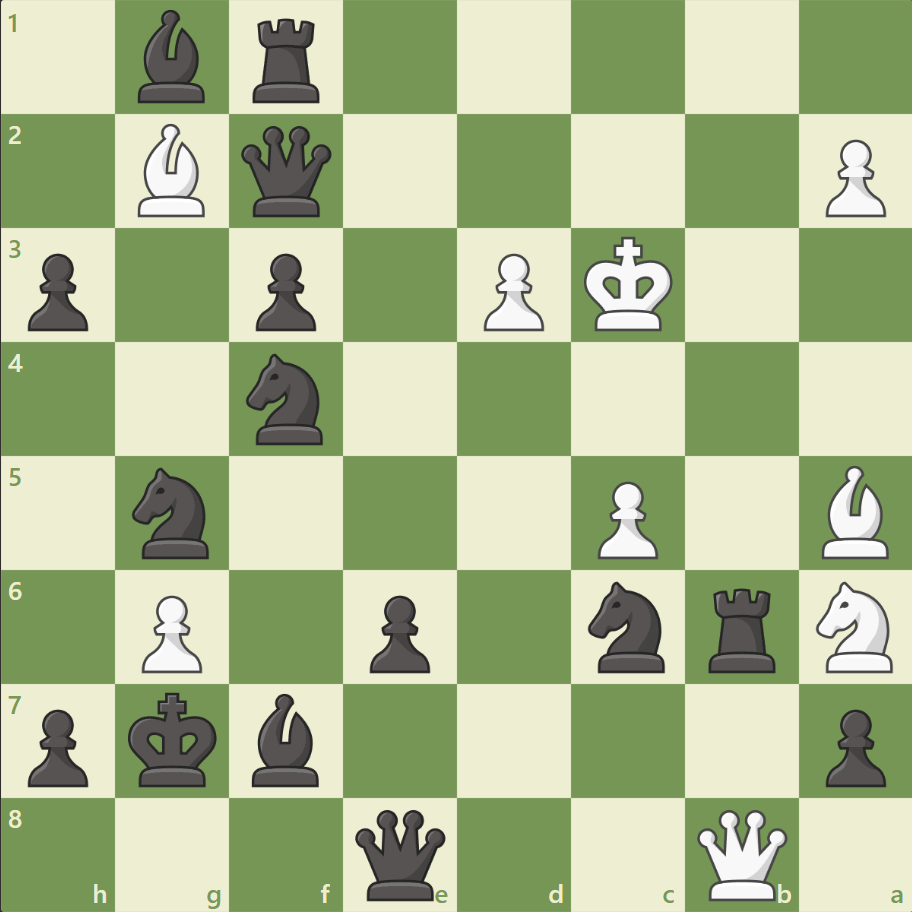B: (812, 460, 896, 563), (131, 120, 215, 222)
K: (579, 231, 679, 339)
N: (806, 575, 903, 677)
P: (133, 586, 208, 677), (474, 246, 549, 337), (588, 473, 662, 564), (815, 132, 889, 223)
Q: (691, 804, 790, 903)
b: (244, 687, 328, 790), (131, 6, 215, 109)
k: (124, 685, 224, 793)
n: (124, 461, 222, 564), (579, 575, 676, 677), (238, 348, 335, 450)
p: (20, 700, 95, 791), (247, 246, 322, 337), (20, 246, 95, 337), (815, 700, 889, 791), (361, 586, 435, 677)
q: (237, 122, 336, 222), (351, 804, 450, 903)
r: (700, 579, 783, 676), (246, 12, 329, 109)
